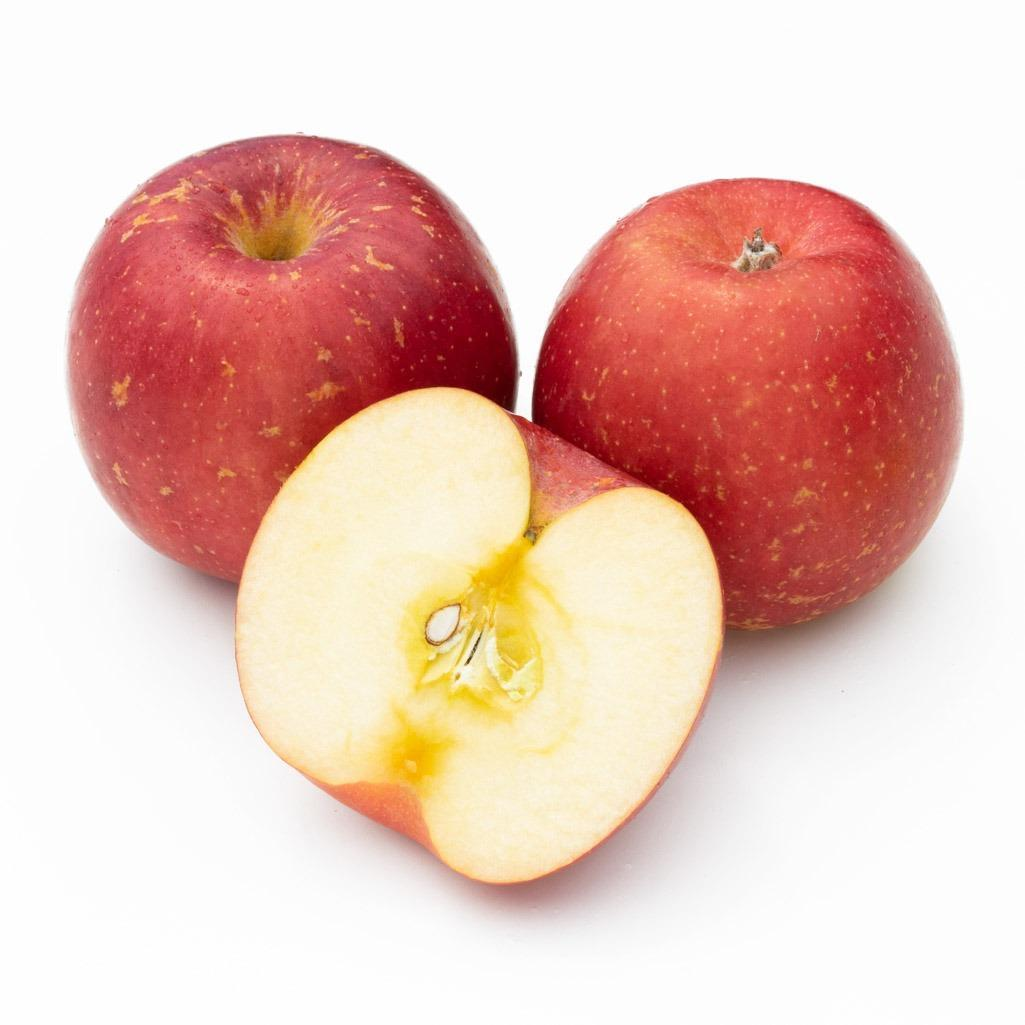apple: (60, 148, 524, 589), (533, 171, 968, 621)
